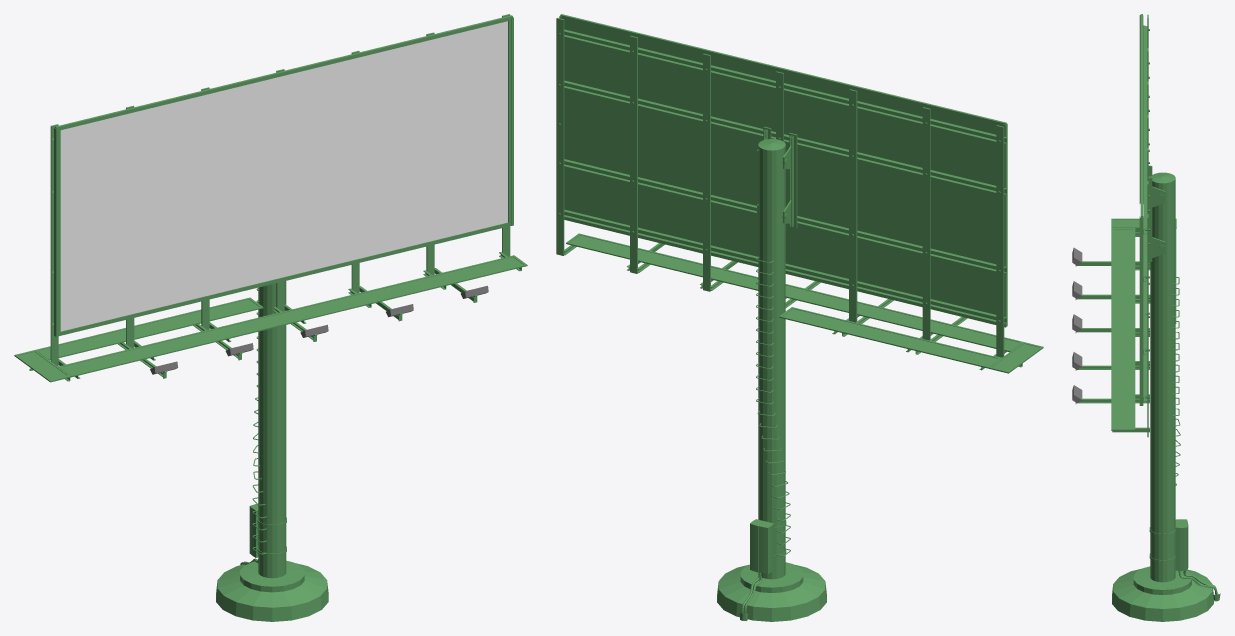
File: billboard.glb
The picture shows the model from 3 angles, left to right: view 1: azimuth 30°, elevation 25°; view 2: azimuth 150°, elevation 25°; view 3: azimuth 270°, elevation 25°; orthographic projection. The views are drawn at different scales.
Visible parts, largest first — view 1: Billboard_A_b7af74, Billboard_A_24a642, Billboard_A_bc57ef; view 2: Billboard_A_24a642; view 3: Billboard_A_24a642, Billboard_A_bc57ef.
Boxes of the visible parts, x1=… form: Billboard_A_b7af74: x1=60, y1=21, x2=507, y2=331; Billboard_A_24a642: x1=14, y1=14, x2=527, y2=621; Billboard_A_bc57ef: x1=150, y1=285, x2=488, y2=374; Billboard_A_24a642: x1=556, y1=14, x2=1043, y2=621; Billboard_A_24a642: x1=1075, y1=14, x2=1220, y2=621; Billboard_A_bc57ef: x1=1072, y1=247, x2=1082, y2=403.
Size of the model in its own units: 3.29 by 3.5 by 0.9696.
